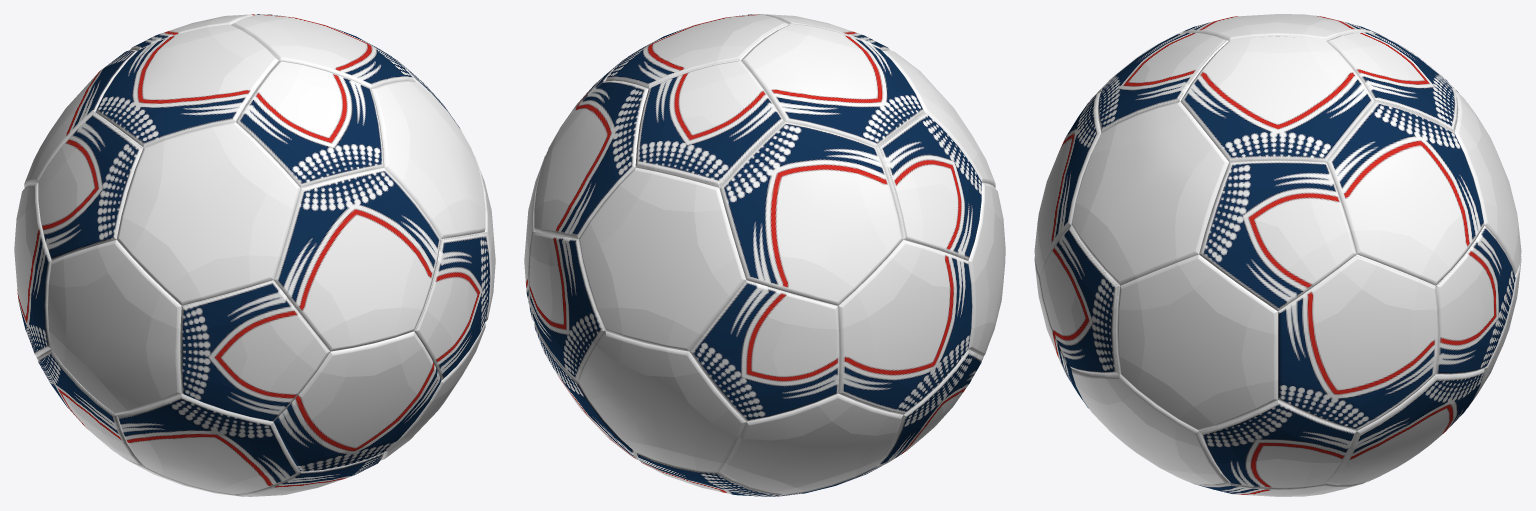
The model's file is ball_blue.fbx.
The picture shows the model from 3 angles, left to right: view 1: azimuth 30°, elevation 25°; view 2: azimuth 150°, elevation 25°; view 3: azimuth 270°, elevation 25°; orthographic projection.
Visible parts, largest first — view 1: ball_blue; view 2: ball_blue; view 3: ball_blue.
Boxes of the visible parts, <box> form: ball_blue: <box>14,14,495,496</box>; ball_blue: <box>524,14,1005,496</box>; ball_blue: <box>1034,14,1521,496</box>.
Bounding box in the file's own units: 3.45 × 3.45 × 3.45.
1 material, 1 textured.
